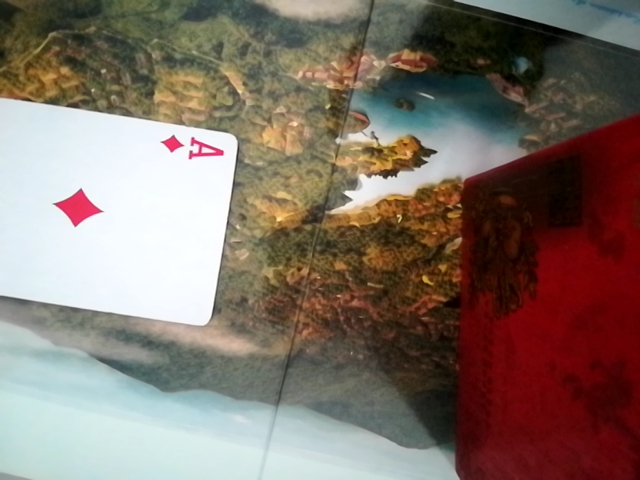fk a: (2, 82, 247, 329)
